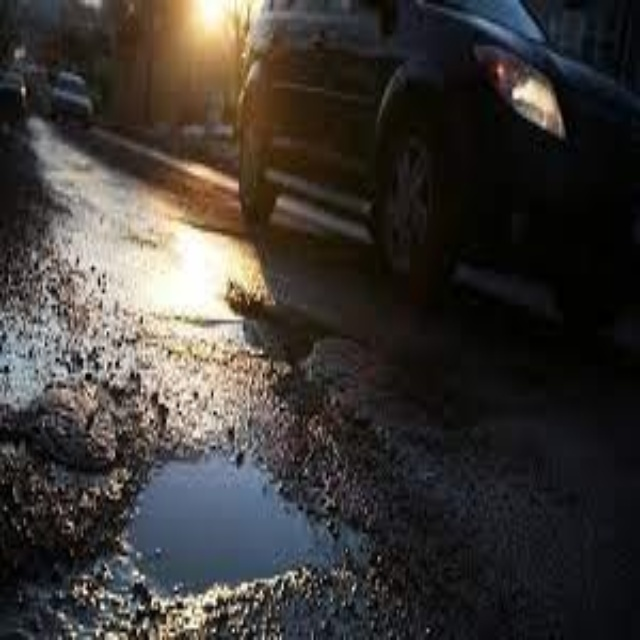pothole: (130, 460, 336, 586), (246, 304, 321, 363)
